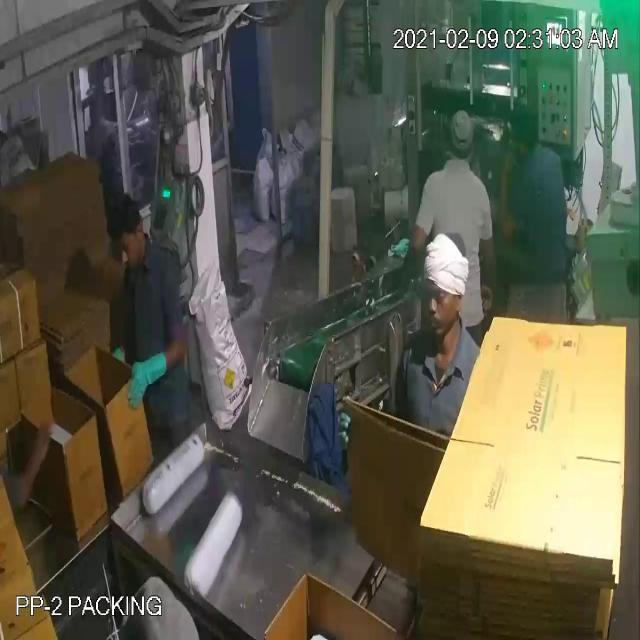gloves: (120, 345, 174, 411)
no-gloves: (5, 398, 57, 524), (496, 142, 526, 248)
